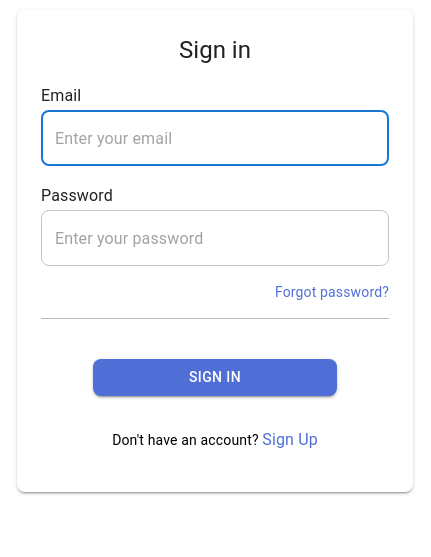
it: Login Component › shows error message when email is invalid
Enter invalid email and submit the form
Step 1. Type "invalid.com" into the field with placeholder "Enter your email" → [215, 138], box top-left (41, 110), bottom-right (389, 166)
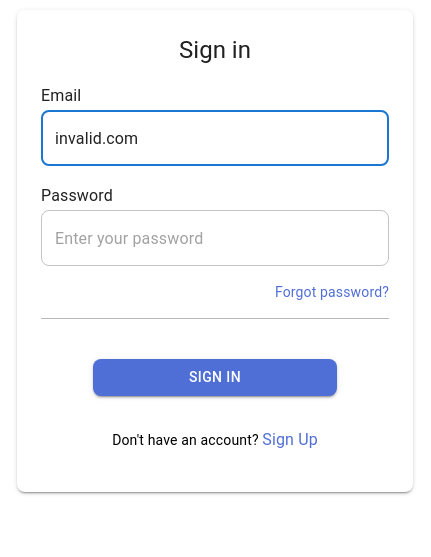
Target the 'Sign In' button by its role (button) and label
Step 2. Click the button "Sign In" → [215, 377], box top-left (93, 359), bottom-right (337, 396)
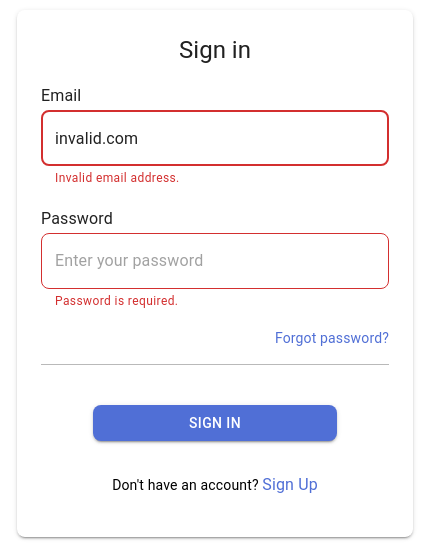
Expected: the text "Invalid email address." is shown, top-left (55, 171), bottom-right (180, 185)
